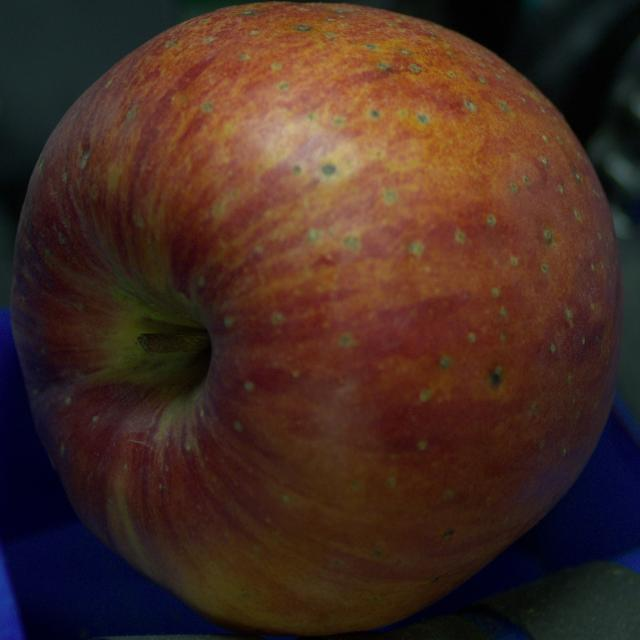apple: (11, 4, 621, 635)
pest: (491, 368, 502, 386), (80, 150, 89, 168)
